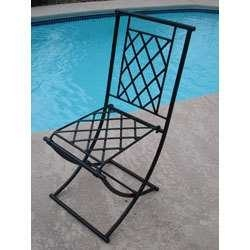obstacle: (43, 10, 194, 242)
